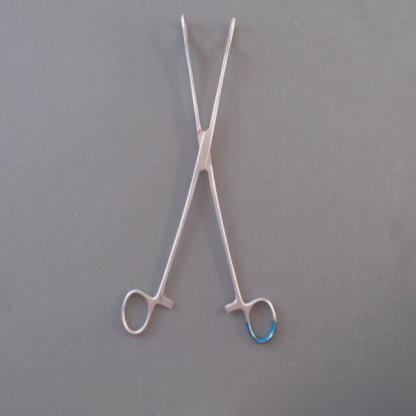Sponge Forceps: (115, 5, 285, 353)
